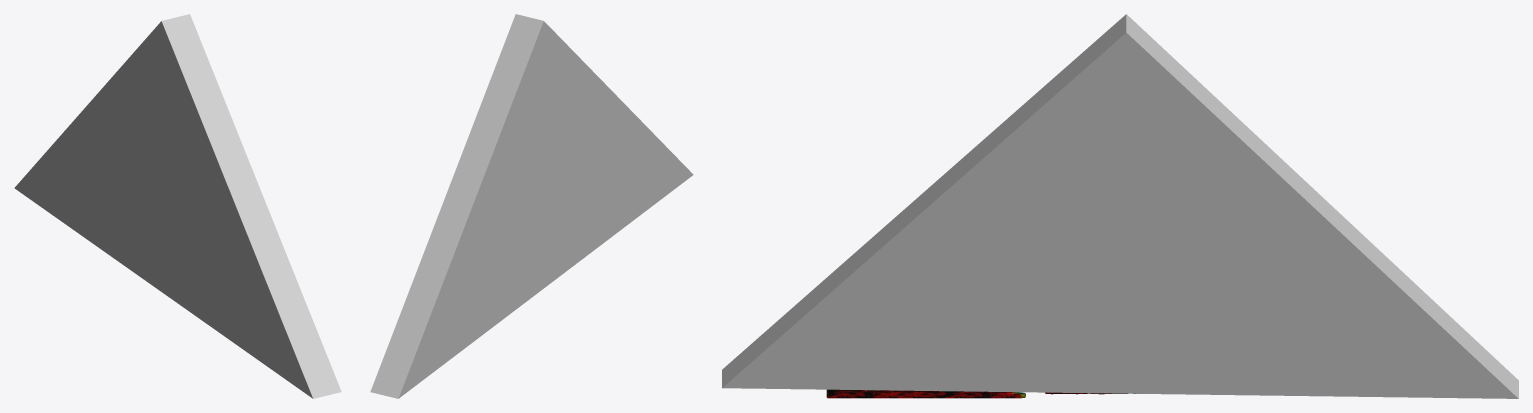
The model's file is SM_SmallCabin_RoofFront.fbx.
3 views of the same model, side by side, from view 1: azimuth 30°, elevation 25°; view 2: azimuth 150°, elevation 25°; view 3: azimuth 270°, elevation 25° (orthographic). The views are drawn at different scales.
Visible parts, largest first — view 1: SM_SmallCabin_RoofFront_ConvexHulls; view 2: SM_SmallCabin_RoofFront_ConvexHulls; view 3: SM_SmallCabin_RoofFront_ConvexHulls, SM_SmallCabin_RoofFront.
Boxes of the visible parts, bbox=[...] form: SM_SmallCabin_RoofFront_ConvexHulls: bbox=[14, 14, 341, 398]; SM_SmallCabin_RoofFront_ConvexHulls: bbox=[370, 14, 693, 398]; SM_SmallCabin_RoofFront_ConvexHulls: bbox=[722, 14, 1518, 398]; SM_SmallCabin_RoofFront: bbox=[826, 389, 1135, 398].
Size of the model in its own units: 24.82 by 451 by 233.
